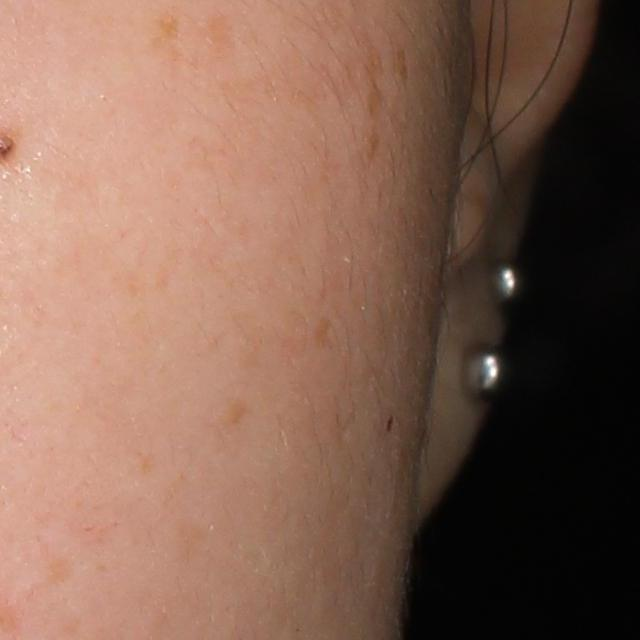melasma: (145, 5, 188, 70), (362, 35, 387, 124), (203, 5, 241, 57), (395, 49, 407, 83)
